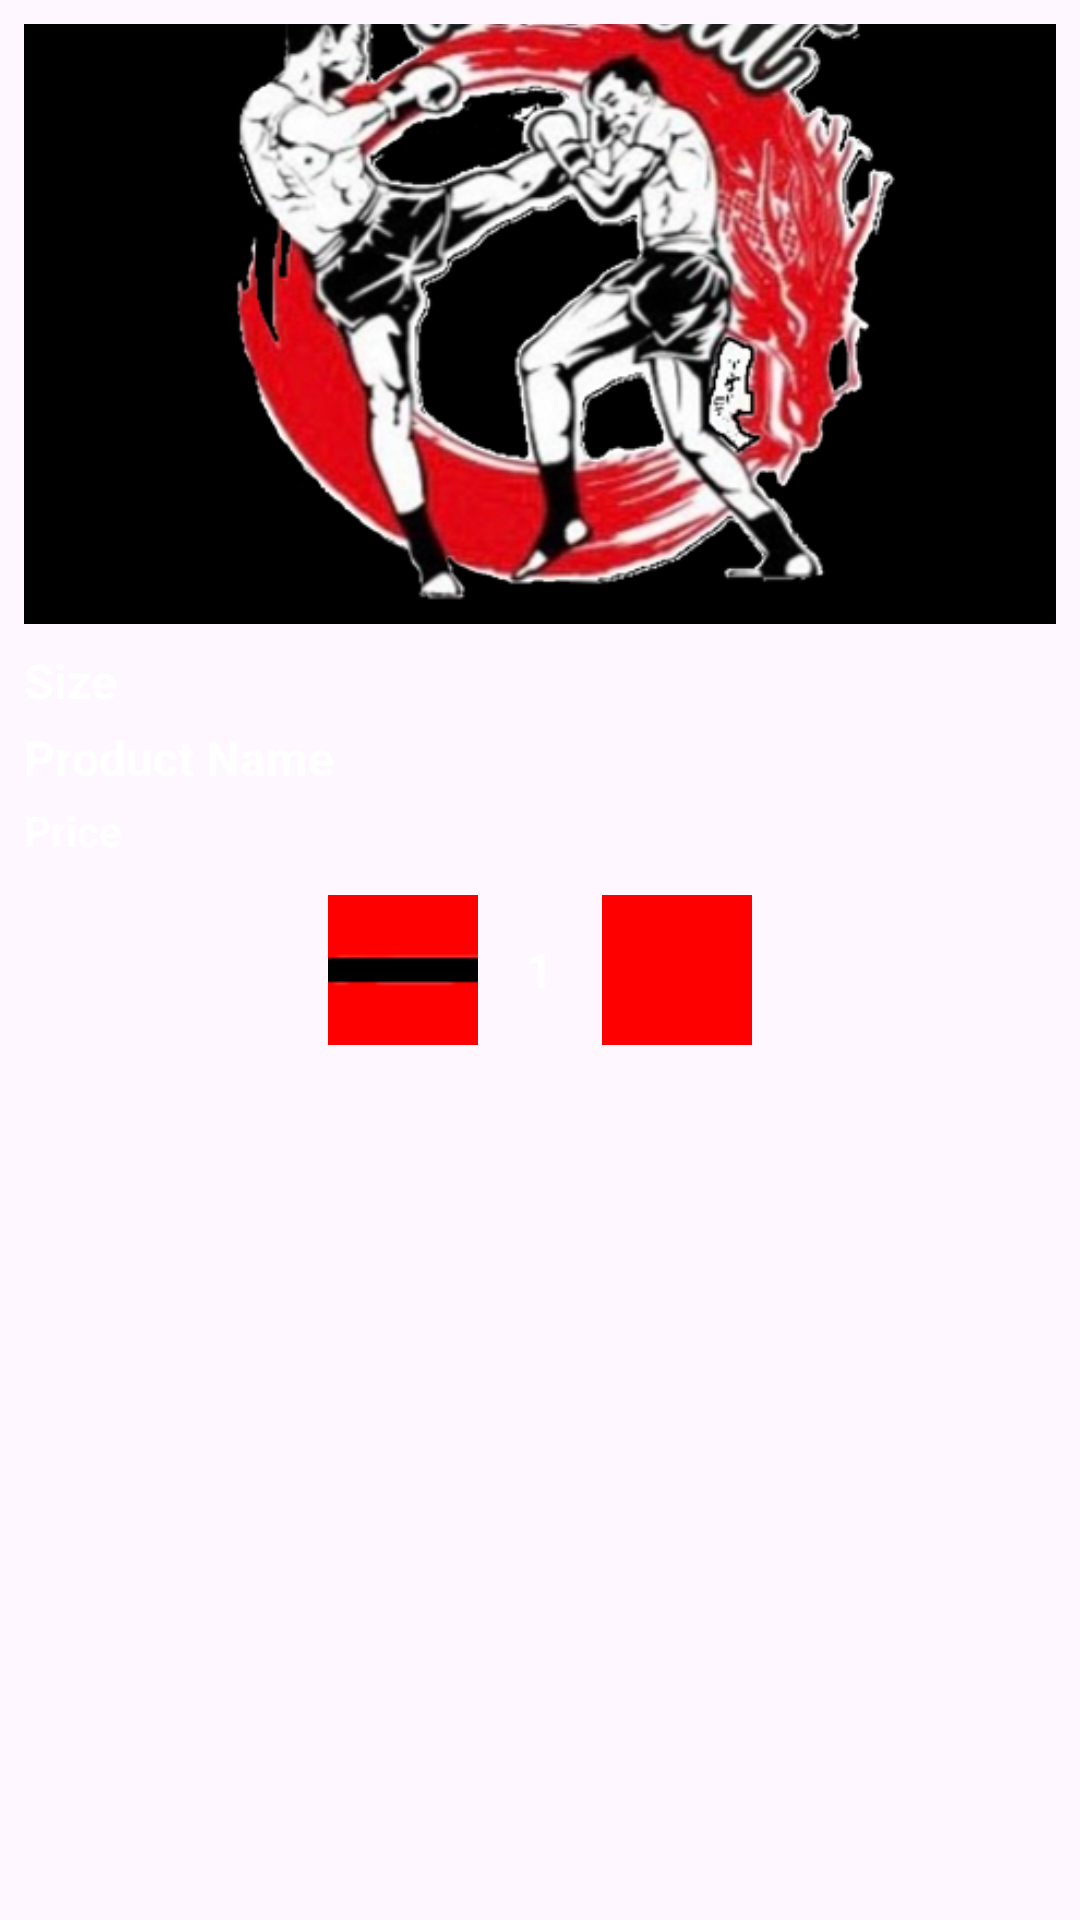

Screen size 1080 × 1920. Icon name, then its box in pixels as (x1=x1, y1=y1, x2=x2, y2=y2):
minus: (x1=328, y1=895, x2=478, y2=1045)
